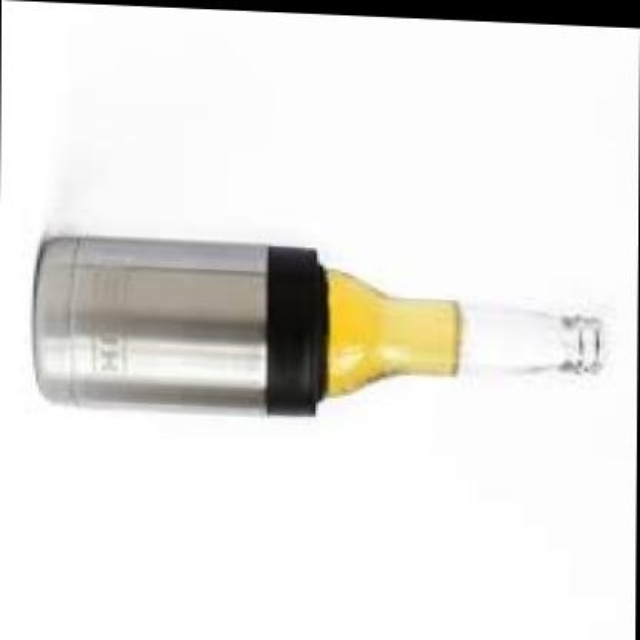trash: (34, 237, 462, 414)
